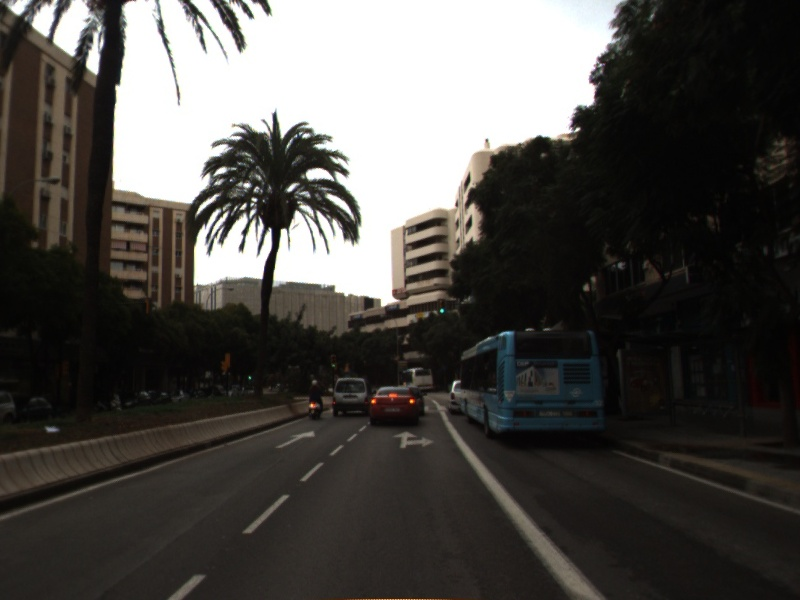STRAIGHT: (273, 428, 318, 450)
STRAIGHT_RIGHT: (390, 429, 437, 450)
